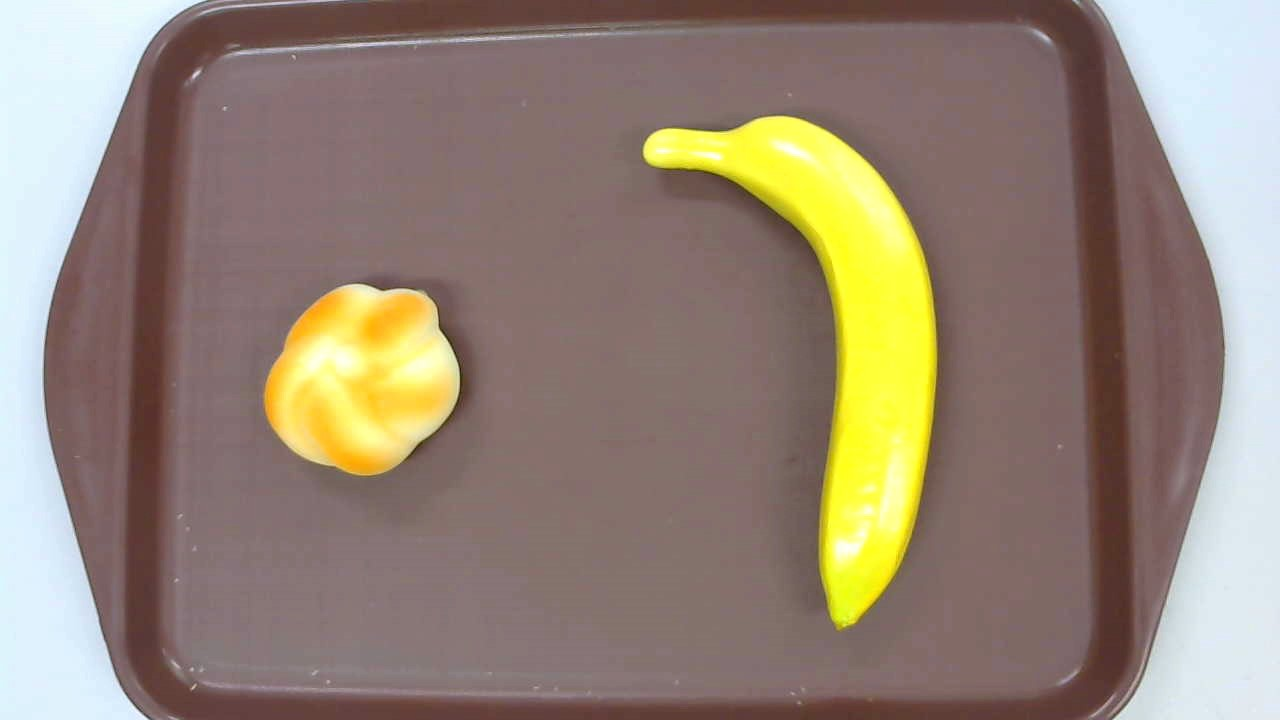banana: (642, 115, 937, 630)
twist bread: (263, 284, 460, 476)
